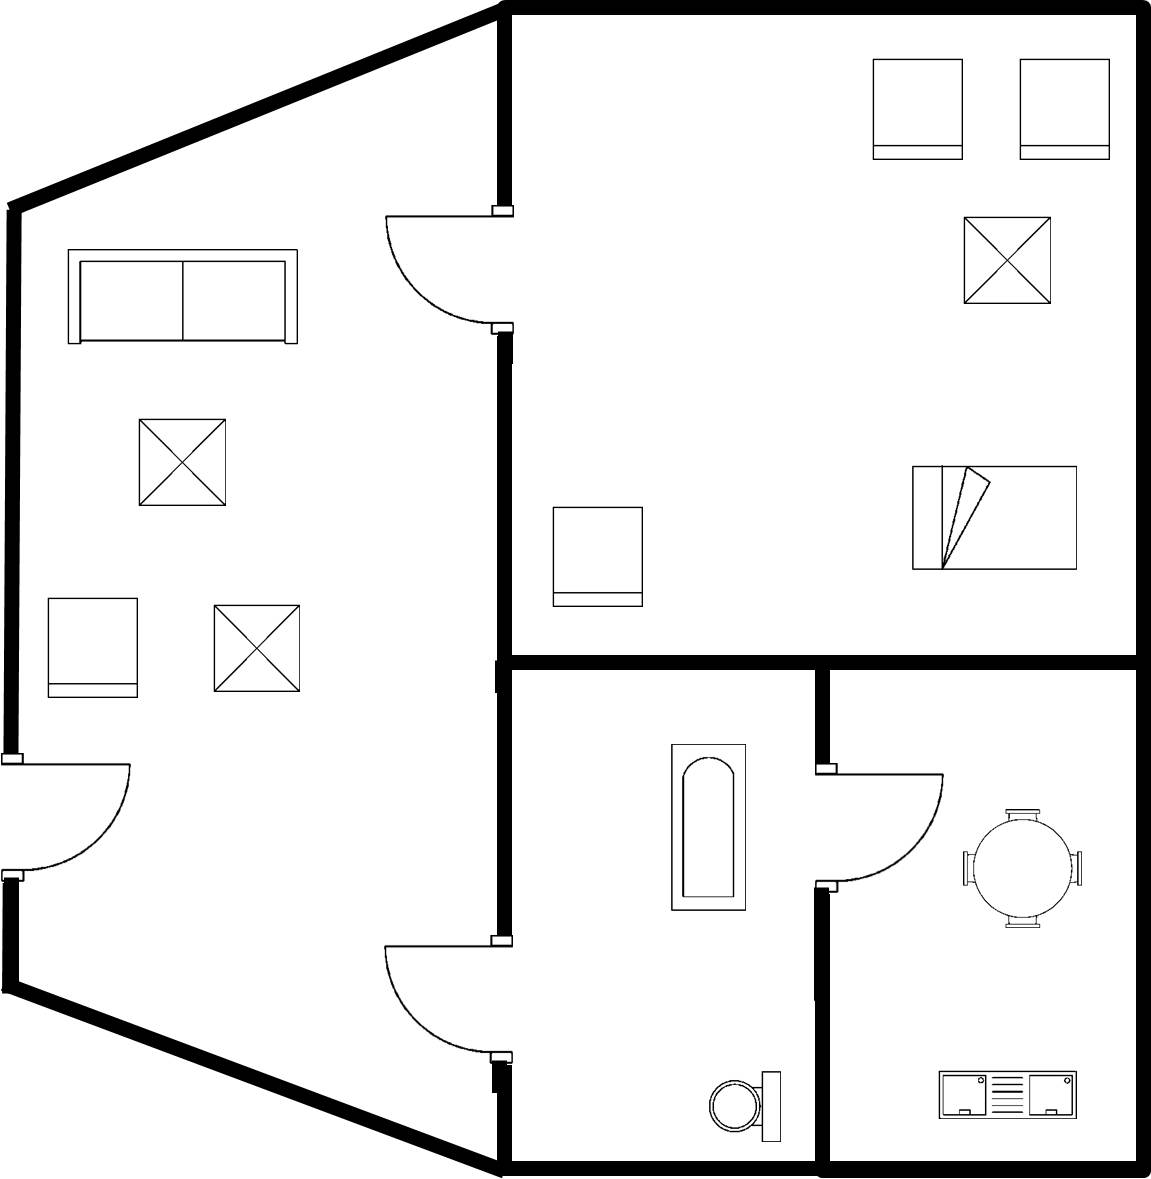bed: (902, 458, 1091, 585)
coffee_table: (129, 410, 235, 513), (202, 598, 310, 701), (956, 210, 1060, 313)
large_sink: (699, 1062, 799, 1150)
large_sofa: (56, 240, 308, 351)
round_table: (949, 802, 1094, 940)
small_sofa: (540, 496, 655, 619), (863, 49, 973, 172), (38, 590, 149, 709), (1010, 51, 1118, 172)
tub: (658, 734, 761, 919)
twin_sink: (929, 1063, 1091, 1130)
